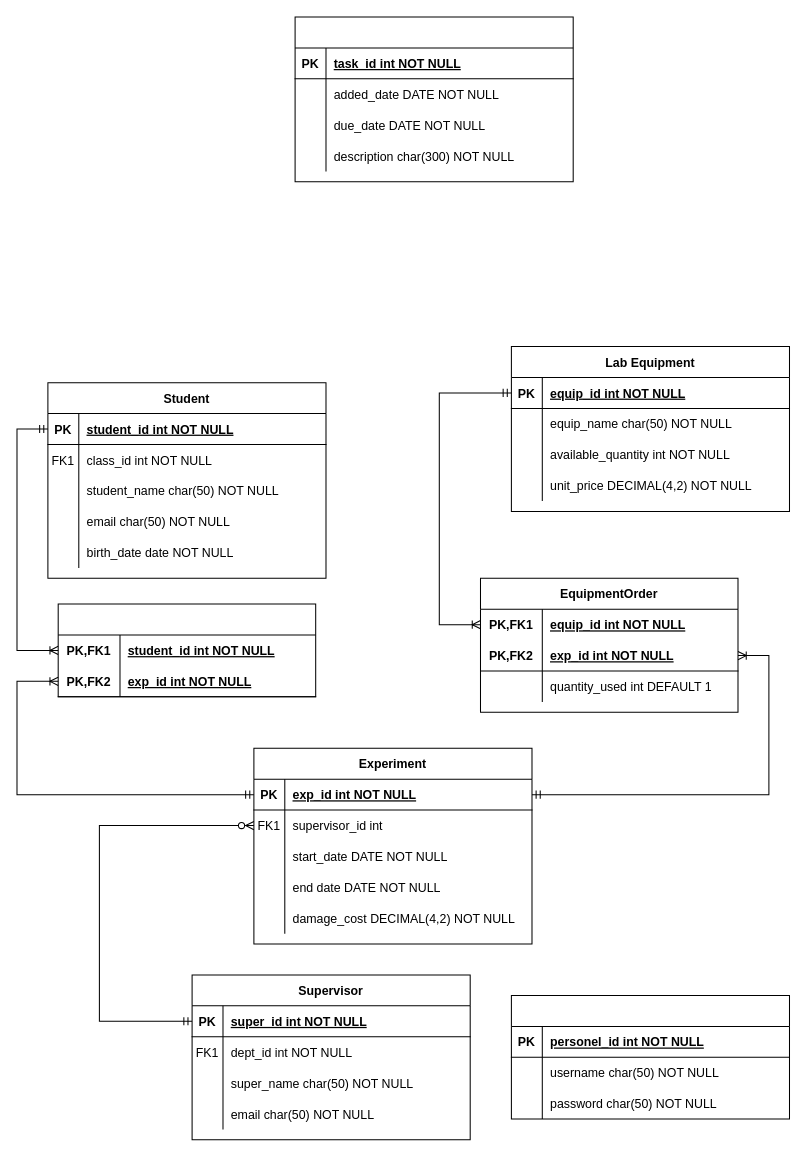
Some shapes in this 806 by 1157 pixel diagram are drawn without their labels. Each missing label, with the box of its shape:
personel_login: (510, 994, 789, 1119)
StudentExperiment: (57, 603, 316, 697)
Tasks: (294, 16, 573, 182)
